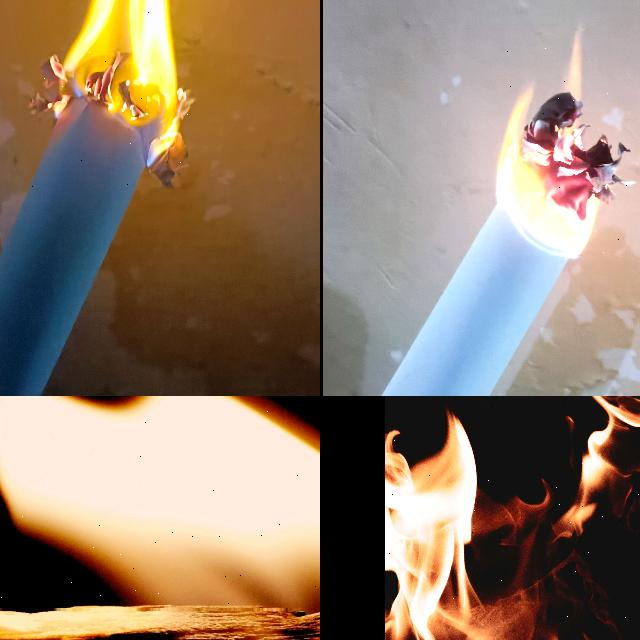fire: (0, 396, 320, 609), (385, 396, 640, 640), (31, 0, 193, 188), (498, 31, 628, 256)
